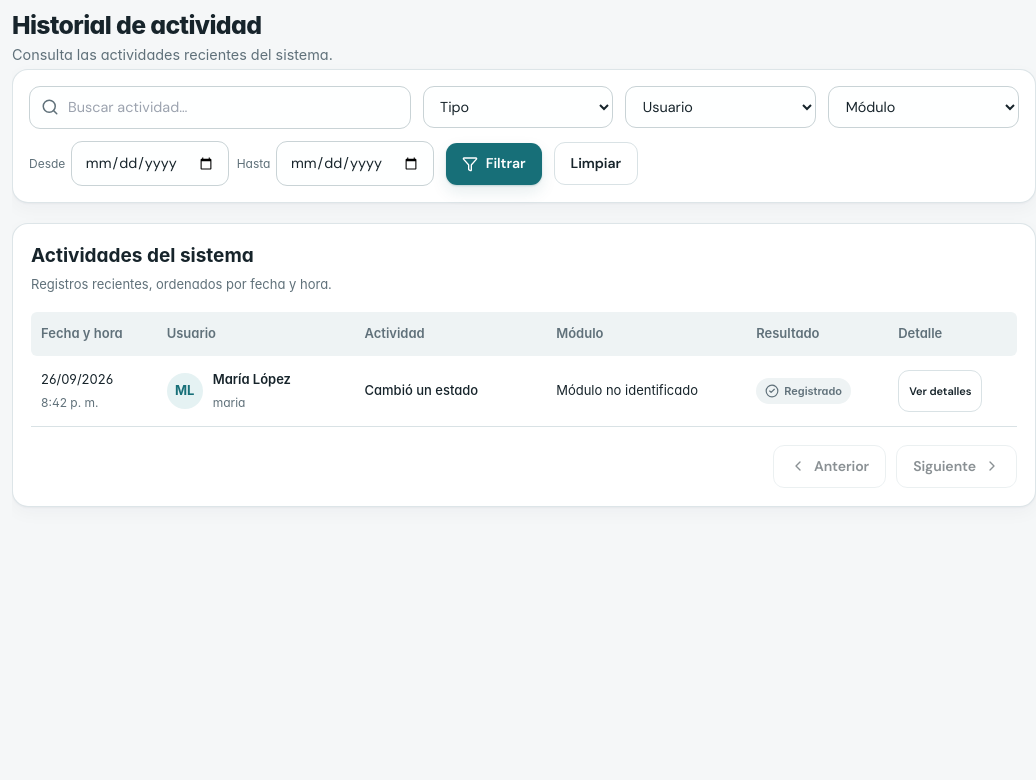
Test: estado genérico con resultado desconocido conserva título, módulo, categoría y resultado en escritorio y detalle
Expected: the text "Módulo no identificado" is shown, [546,356,746,427]
Expected: the text "Registrado" is shown, [756,378,851,404]
Click the button "Ver detalles" at {"x": 940, "y": 391}, box [898,370,982,412]
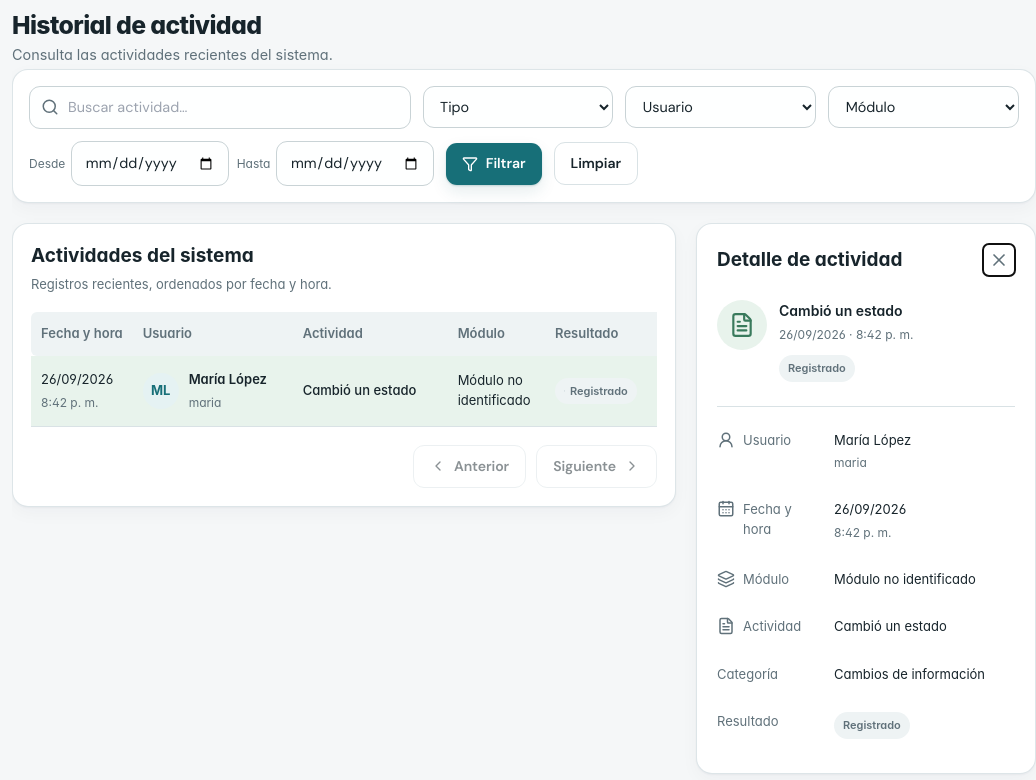
Expected: the heading "Cambió un estado" is shown, [779,300,913,321]
Expected: the text "Módulo no identificado" is shown, [834,571,976,587]
Expected: the text "Cambios de información" is shown, [834,666,985,682]
